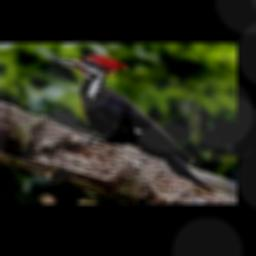Woodpecker: (49, 54, 212, 191)
